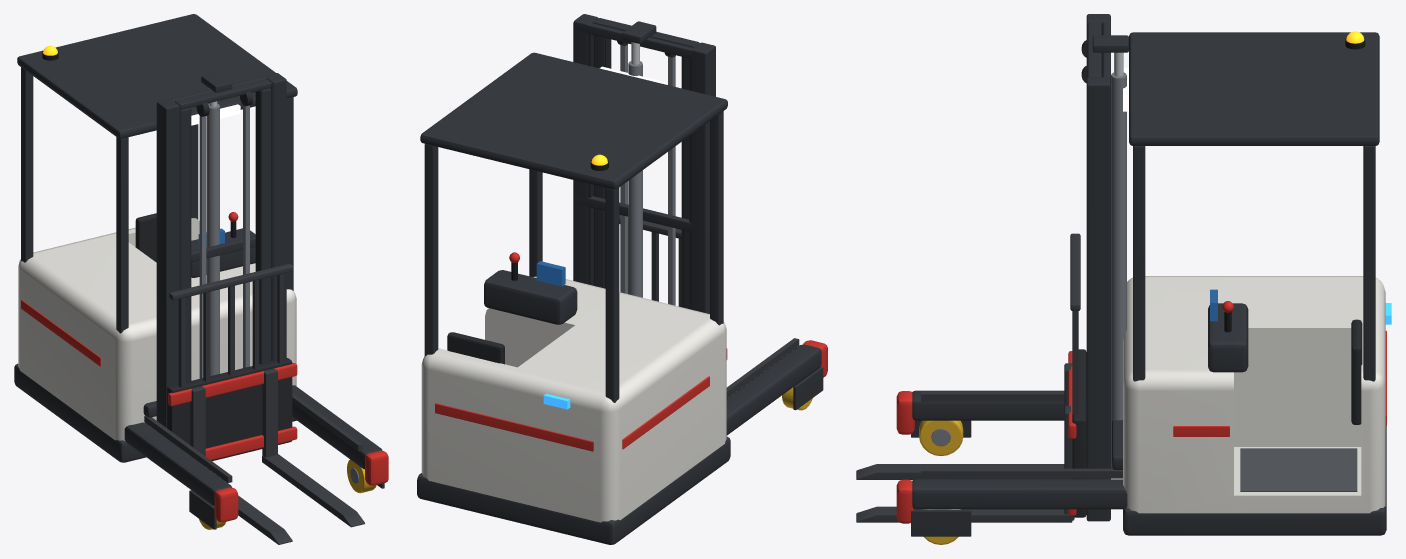
Rendered from reach_truck.glb.
3 views of the same model, side by side, from view 1: azimuth 30°, elevation 25°; view 2: azimuth 150°, elevation 25°; view 3: azimuth 270°, elevation 25° (orthographic). The views are drawn at different scales.
Parts seen in each view (by area): view 1: body_geo, fork_carriage_geo, mast_outer_geo, mast_inner_geo, wheel_LL_geo; view 2: body_geo, mast_outer_geo, mast_inner_geo, fork_carriage_geo; view 3: body_geo, mast_outer_geo, fork_carriage_geo, mast_inner_geo, wheel_LR_geo.
Boxes of the visible parts, left/top/right/bottom form: body_geo: left=14, top=14, right=388, bottom=529; fork_carriage_geo: left=167, top=263, right=364, bottom=544; mast_outer_geo: left=156, top=73, right=286, bottom=427; mast_inner_geo: left=175, top=72, right=271, bottom=381; wheel_LL_geo: left=347, top=459, right=376, bottom=493; body_geo: left=417, top=52, right=827, bottom=544; mast_outer_geo: left=573, top=14, right=715, bottom=313; mast_inner_geo: left=593, top=18, right=699, bottom=308; fork_carriage_geo: left=619, top=214, right=727, bottom=359; body_geo: left=896, top=32, right=1391, bottom=536; mast_outer_geo: left=1086, top=14, right=1126, bottom=521; fork_carriage_geo: left=856, top=233, right=1086, bottom=522; mast_inner_geo: left=1081, top=22, right=1128, bottom=83; wheel_LR_geo: left=919, top=420, right=963, bottom=455.
Bounding box in the file's own units: 1.25 × 2.5 × 2.65.
Materials: 2 (2 with a texture image).
